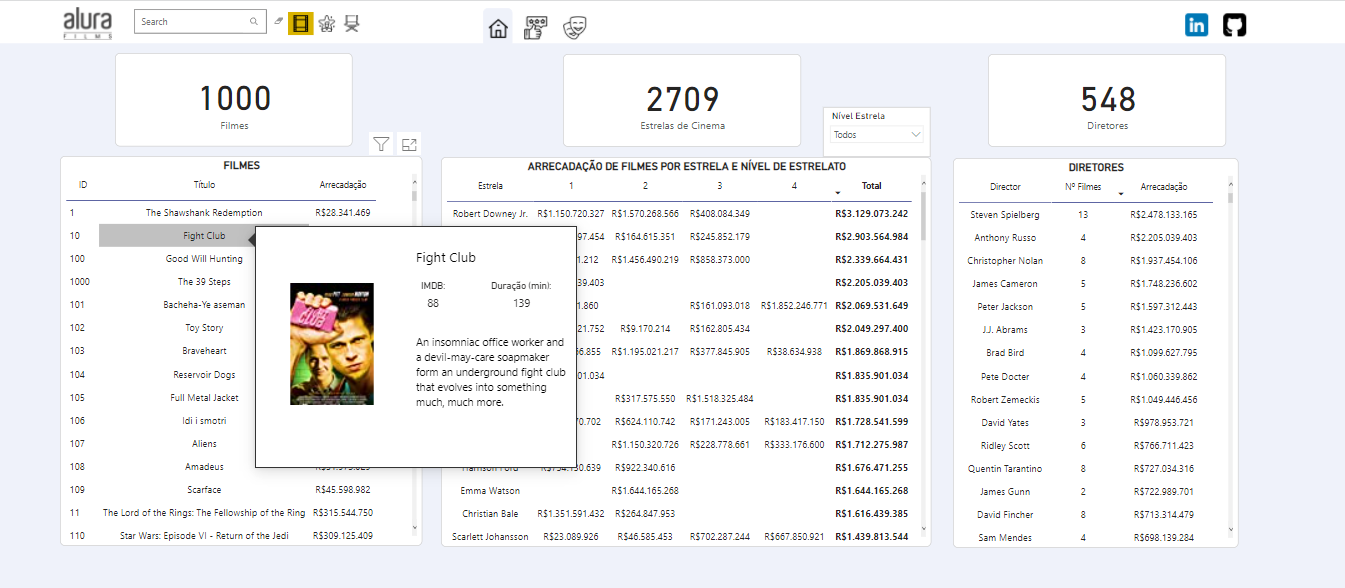

Layout of this report page (visuals, bound fields, positions):
{"tool":"powerbi","page":{"name":"Alura Films","canvas":[1980,920],"ordinal":0},"visuals":[{"type":"image","title":"Github","box":[1841.6,7,46,61],"z":0,"group":"g4"},{"type":"image","title":"Homepage On","box":[690,11,46,61],"z":0,"group":"g2"},{"type":"image","title":"F. Filmes On","box":[386,17,40,36],"z":0,"group":"g3"},{"type":"group","id":"g1","title":"Cartões","box":[114.9,80.8,1735.9,147.7],"z":0},{"type":"card","title":"Cartão Filmes","fields":{"Values":["CountNonNull(Filmes.Series_Title)"]},"box":[114.9,80.8,370.7,145.7],"z":0,"group":"g1"},{"type":"image","title":"Linkedin","box":[1781.6,7,46,61],"z":1000,"group":"g4"},{"type":"card","title":"Cartão Estrelas","fields":{"Values":["Count(Estrelas.Estrela)"]},"box":[814.6,83.1,371.5,145.4],"z":1000,"group":"g1"},{"type":"pivotTable","title":"ARRECADAÇÃO DE FILMES POR ESTRELA E NÍVEL DE ESTRELATO","fields":{"Columns":["Estrelas.NívelEstrela"],"Values":["Sum(Filmes.Gross)"],"Rows":["Estrelas.Estrela"]},"box":[624.2,244.3,766.2,609.2],"z":1000,"group":"g2"},{"type":"card","title":"Cartão Diretores","fields":{"Values":["Count(Filmes.Director)"]},"box":[1479.2,83.1,371.5,145.4],"z":2000,"group":"g1"},{"type":"tableEx","title":"FILMES","fields":{"Values":["Filmes.Id_Title","Filmes.Series_Title","Sum(Filmes.Gross)"]},"box":[29.7,242.4,565.7,608.6],"z":2000,"group":"g2"},{"type":"group","id":"g2","title":"Homepage","box":[29.7,11,1840.2,842.5],"z":3000},{"type":"image","title":"F. Diretores Off","box":[466,17,40,36],"z":3000,"group":"g3"},{"type":"pivotTable","title":"DIRETORES","fields":{"Values":["Count(Filmes.Id_Title)","Sum(Filmes.Gross)"],"Rows":["Filmes.Director"]},"box":[1424.2,244.6,445.7,608.6],"z":3000,"group":"g2"},{"type":"group","id":"g3","title":"Filtros HomePage","box":[140.8,8,365.2,67.5],"z":4000},{"type":"slicer","title":"Segmt Estrela","fields":{"Values":["Estrelas.NívelEstrela"]},"box":[1220.8,166.2,168.5,78.5],"z":4000,"group":"g2"},{"type":"image","title":"Alura Logo","box":[12.9,5,120.1,61],"z":5000},{"type":"textFilter25A4896A83E0487089E2B90C9AE57C8A","title":"F. Filme","fields":{"field":["Filmes.Series_Title"]},"box":[140.8,8,255.4,66.7],"z":5000,"group":"g3"},{"type":"image","title":"Genero Off","box":[810,11,46,61],"z":6000},{"type":"image","title":"F. Estrelas Off","box":[426,17,40,36],"z":7000,"group":"g3"},{"type":"image","title":"Rating Off","box":[750,11,46,61],"z":8000},{"type":"group","id":"g4","title":"Assinaturas","box":[1781.6,7,106,61],"z":10000}]}

Visuals, with their boxes on the page's 1980x920 design canvas (x1, y1, x2, y2). These are canvas units, not pixel positions in the 1345x588 screenshot, which may show the page scaled, cropped or inside an application window:
"Github" image: locate(1842, 7, 1888, 68)
"Homepage On" image: locate(690, 11, 736, 72)
"F. Filmes On" image: locate(386, 17, 426, 53)
"Cartões" group: locate(115, 81, 1851, 228)
"Cartão Filmes" card: locate(115, 81, 486, 226)
"Linkedin" image: locate(1782, 7, 1828, 68)
"Cartão Estrelas" card: locate(815, 83, 1186, 228)
"ARRECADAÇÃO DE FILMES POR ESTRELA E NÍVEL DE ESTRELATO" pivotTable: locate(624, 244, 1390, 854)
"Cartão Diretores" card: locate(1479, 83, 1851, 228)
"FILMES" tableEx: locate(30, 242, 595, 851)
"Homepage" group: locate(30, 11, 1870, 854)
"F. Diretores Off" image: locate(466, 17, 506, 53)
"DIRETORES" pivotTable: locate(1424, 245, 1870, 853)
"Filtros HomePage" group: locate(141, 8, 506, 76)
"Segmt Estrela" slicer: locate(1221, 166, 1389, 245)
"Alura Logo" image: locate(13, 5, 133, 66)
"F. Filme" textFilter25A4896A83E0487089E2B90C9AE57C8A: locate(141, 8, 396, 75)
"Genero Off" image: locate(810, 11, 856, 72)
"F. Estrelas Off" image: locate(426, 17, 466, 53)
"Rating Off" image: locate(750, 11, 796, 72)
"Assinaturas" group: locate(1782, 7, 1888, 68)
